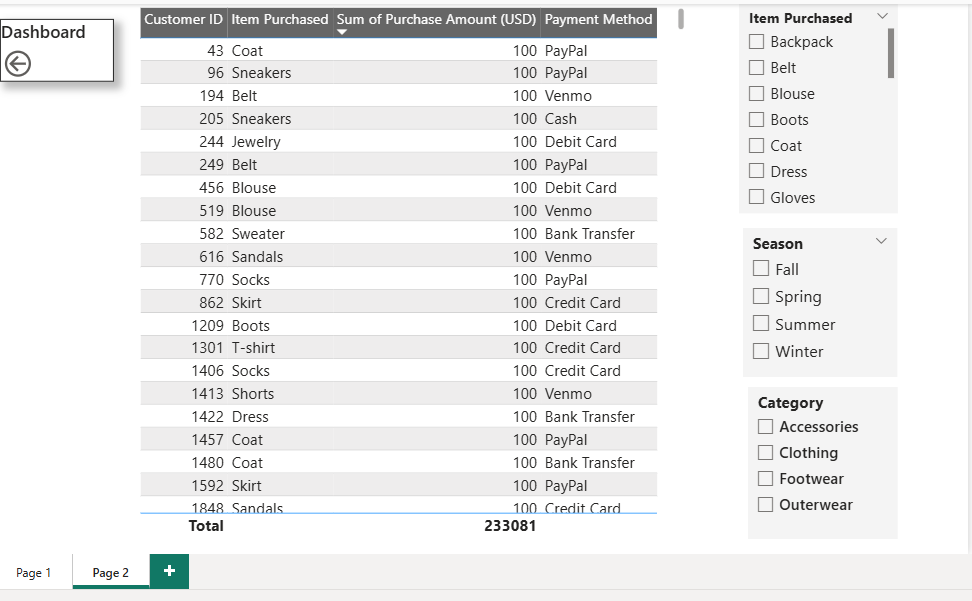

What the dashboard file says about the page in this screenshot:
{"tool":"powerbi","page":{"name":"Page 2","canvas":[1280,720],"ordinal":1},"visuals":[{"type":"tableEx","fields":{"Values":["cleaned_data.Customer ID","cleaned_data.Item Purchased","Sum(cleaned_data.Purchase Amount (USD))","cleaned_data.Payment Method"]},"box":[191.7,0,722.9,701],"z":0},{"type":"slicer","fields":{"Values":["cleaned_data.Item Purchased"]},"box":[980.5,0,207.8,273.7],"z":1000},{"type":"slicer","fields":{"Values":["cleaned_data.Season"]},"box":[986.3,292.7,202,194.6],"z":2000},{"type":"slicer","fields":{"Values":["cleaned_data.Category"]},"box":[992.2,502,196.1,199],"z":4000},{"type":"actionButton","title":"Dashboard","box":[13.2,19,149.3,82],"z":5000}]}

Visuals, with their boxes on the page's 1280x720 design canvas (x1, y1, x2, y2). These are canvas units, not pixel positions in the 972x601 screenshot, which may show the page scaled, cropped or inside an application window:
tableEx - cleaned_data.Customer ID x cleaned_data.Item Purchased: x1=192, y1=0, x2=915, y2=701
slicer - cleaned_data.Item Purchased: x1=980, y1=0, x2=1188, y2=274
slicer - cleaned_data.Season: x1=986, y1=293, x2=1188, y2=487
slicer - cleaned_data.Category: x1=992, y1=502, x2=1188, y2=701
"Dashboard" actionButton: x1=13, y1=19, x2=162, y2=101
